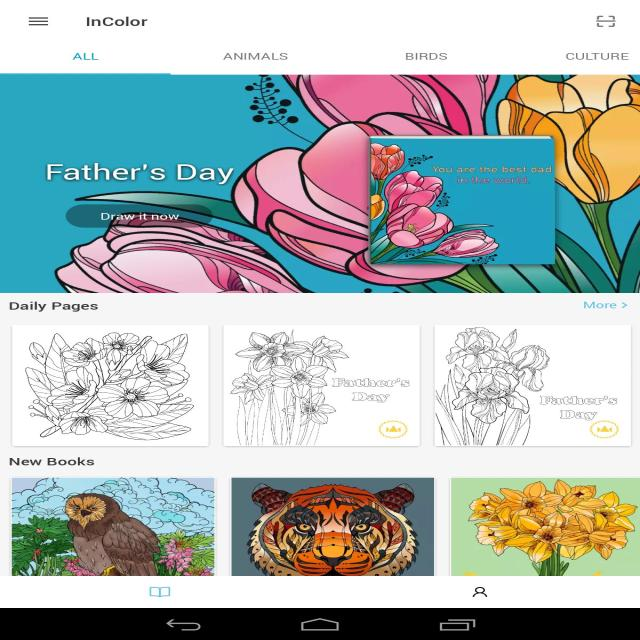button: (336, 42, 508, 74), (171, 43, 336, 74), (0, 44, 170, 74), (508, 41, 640, 73), (65, 202, 214, 229), (588, 11, 625, 32), (25, 12, 50, 28)
heading: (41, 160, 235, 187), (80, 12, 152, 30), (8, 300, 100, 312), (7, 457, 97, 469)
image: (0, 73, 638, 293), (13, 326, 213, 445), (435, 325, 632, 443), (227, 325, 418, 446), (232, 477, 433, 576), (15, 477, 212, 575), (452, 478, 639, 574)
link: (582, 299, 630, 312)
text: (217, 49, 293, 63), (564, 50, 630, 64), (400, 49, 454, 62), (64, 47, 104, 64)
